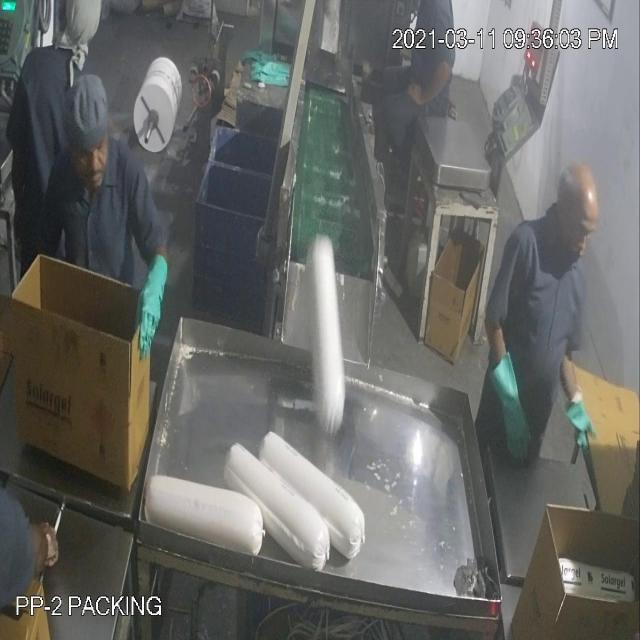No_Gloves: (42, 70, 513, 542)
